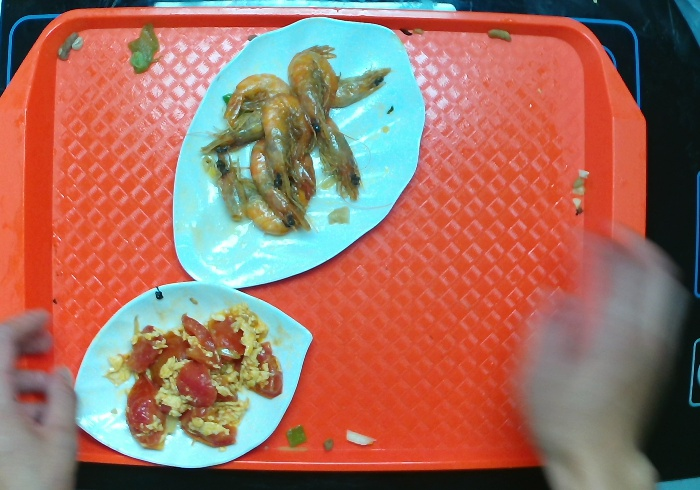RJxy-Bai_Ye_Pan: (169, 14, 426, 297)
RJxy-Da_Du_Pan: (68, 279, 314, 469)
